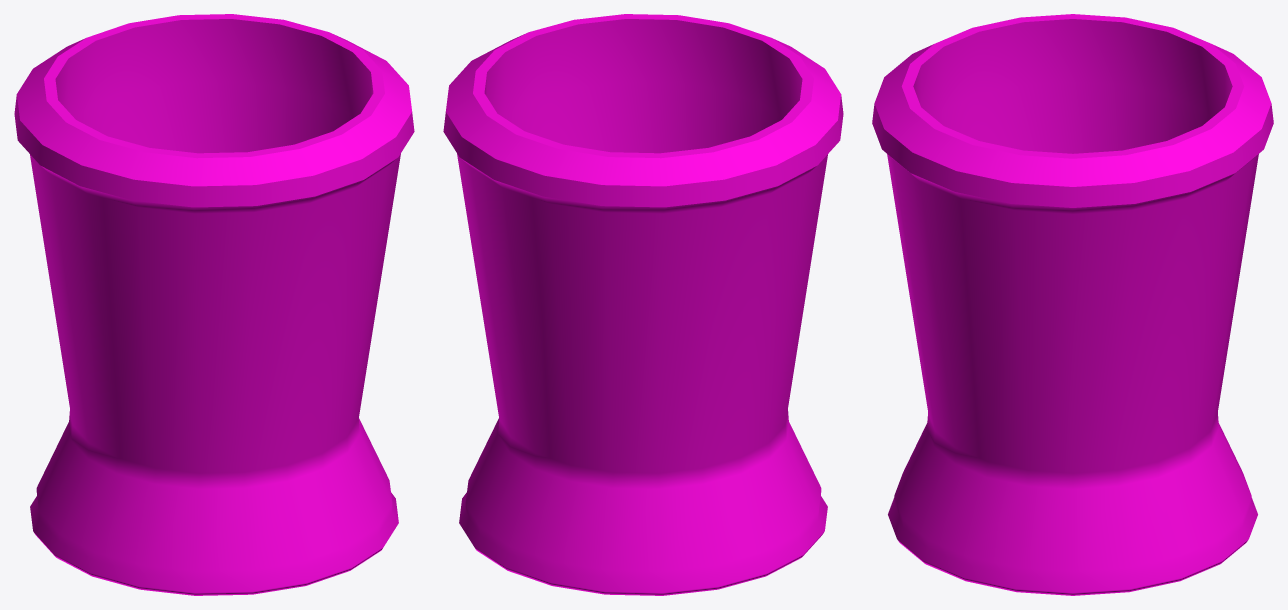
Rendered from Renown_waterjar.fbx.
The picture shows the model from 3 angles, left to right: view 1: azimuth 30°, elevation 25°; view 2: azimuth 150°, elevation 25°; view 3: azimuth 270°, elevation 25°; orthographic projection.
Visible parts, largest first — view 1: Tavern_Water_cup; view 2: Tavern_Water_cup; view 3: Tavern_Water_cup.
Boxes of the visible parts, x1,y1,x2,y2 form: Tavern_Water_cup: (14,14,414,595); Tavern_Water_cup: (443,14,843,595); Tavern_Water_cup: (872,14,1273,595).
Bounding box in the file's own units: 29.99 × 35.63 × 29.99.
